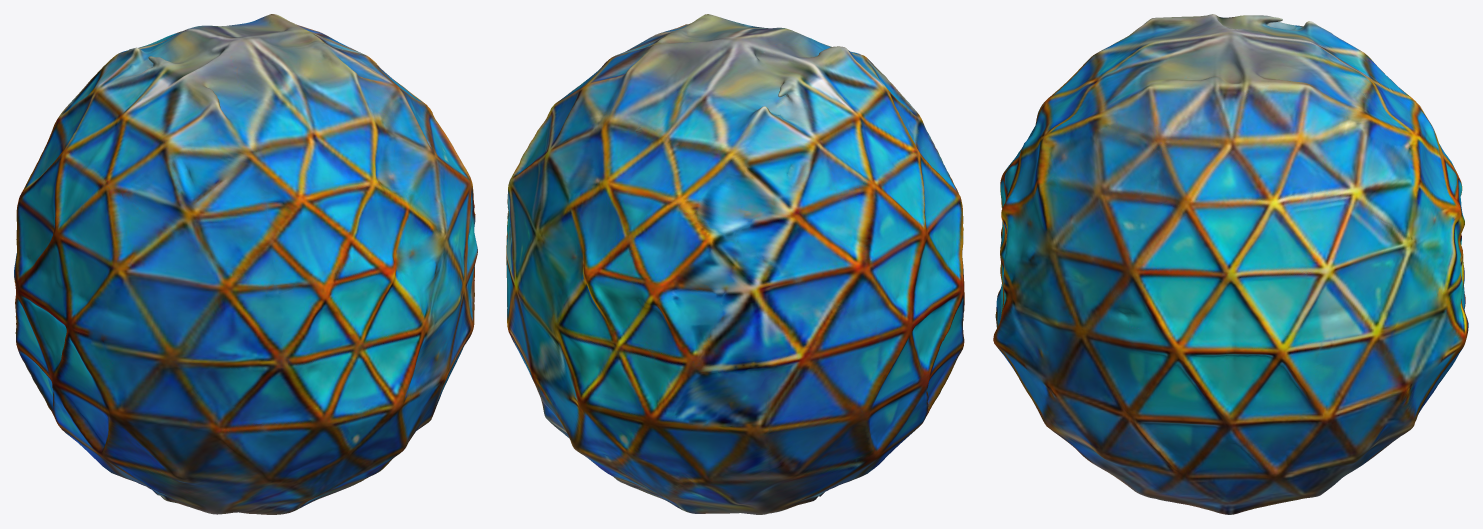
The model's file is icosahedron_3d.glb.
The picture shows the model from 3 angles, left to right: view 1: azimuth 30°, elevation 25°; view 2: azimuth 150°, elevation 25°; view 3: azimuth 270°, elevation 25°; orthographic projection.
Parts seen in each view (by area): view 1: tripo_node_cebf6e68-e6f3-4432-a447-bf7990c554b8; view 2: tripo_node_cebf6e68-e6f3-4432-a447-bf7990c554b8; view 3: tripo_node_cebf6e68-e6f3-4432-a447-bf7990c554b8.
Part boxes in pixels (box(x1,y1,x2,y2)): tripo_node_cebf6e68-e6f3-4432-a447-bf7990c554b8: box(14, 14, 477, 514); tripo_node_cebf6e68-e6f3-4432-a447-bf7990c554b8: box(506, 14, 964, 514); tripo_node_cebf6e68-e6f3-4432-a447-bf7990c554b8: box(993, 14, 1468, 514).
Bounding box in the file's own units: 0.6303 × 0.6728 × 0.642.
1 material, 1 textured.
